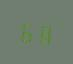eight: (36, 20, 52, 45)
six: (19, 18, 35, 43)
